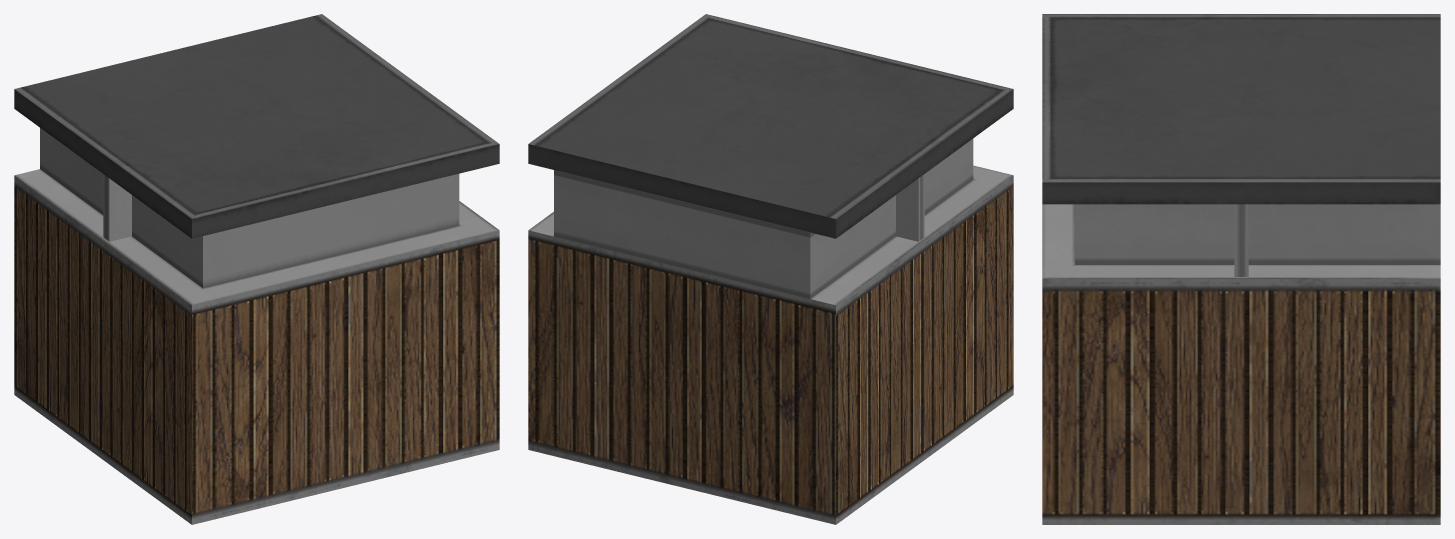
Rendered from HH_Information_Desk_Module_End.fbx.
3 views of the same model, side by side, from view 1: azimuth 30°, elevation 25°; view 2: azimuth 150°, elevation 25°; view 3: azimuth 270°, elevation 25° (orthographic). The views are drawn at different scales.
Visible parts, largest first — view 1: HH_Information_Desk_Module_End; view 2: HH_Information_Desk_Module_End; view 3: HH_Information_Desk_Module_End.
Boxes of the visible parts, x1=… form: HH_Information_Desk_Module_End: x1=14, y1=14, x2=499, y2=524; HH_Information_Desk_Module_End: x1=528, y1=14, x2=1013, y2=524; HH_Information_Desk_Module_End: x1=1042, y1=14, x2=1440, y2=524.
Size of the model in its own units: 100 by 95 by 100.
